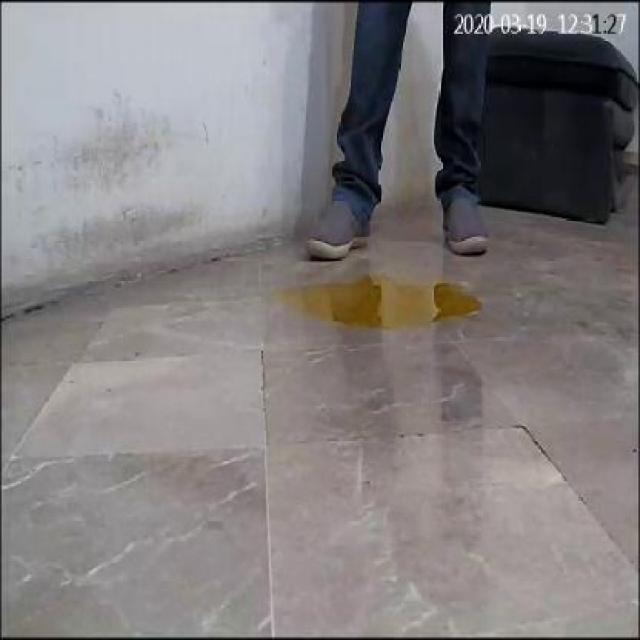spill: (276, 272, 478, 325)
